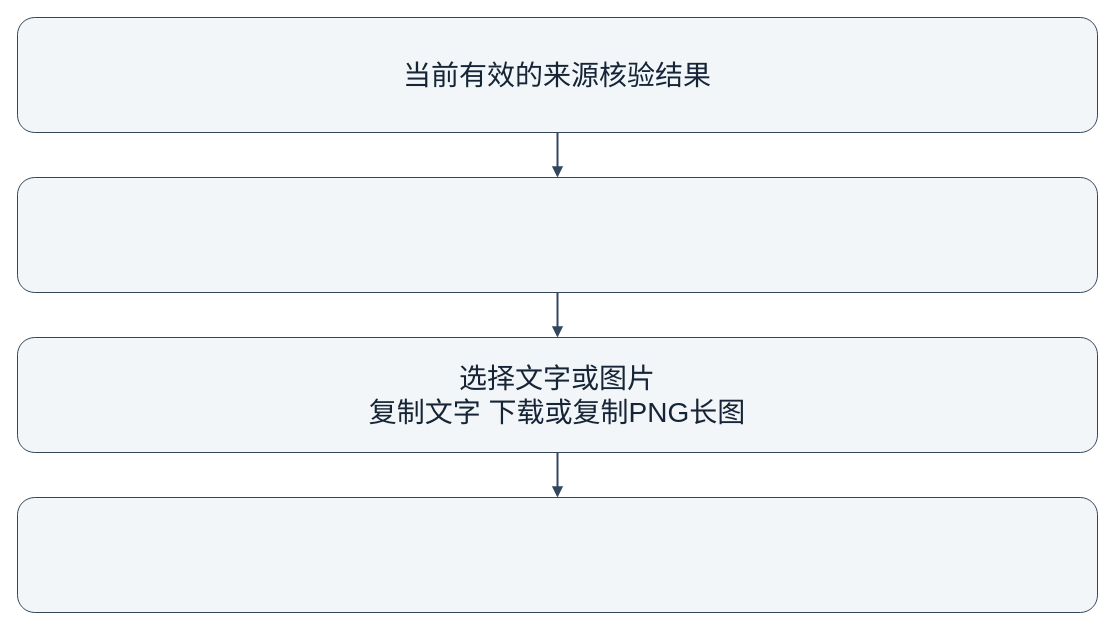
Image size: 1115x630. Some labels were removed from this diagram. The shapes that lost their labels are listed below. From the top down, each one's centre as x and y in pixels, then its label:
the point at 557,234: 生成同一份确定性摘要 结论 原文链接 未解决项 使用边界
the point at 557,554: 朋友据此复查 修改输入后原结果转为历史
